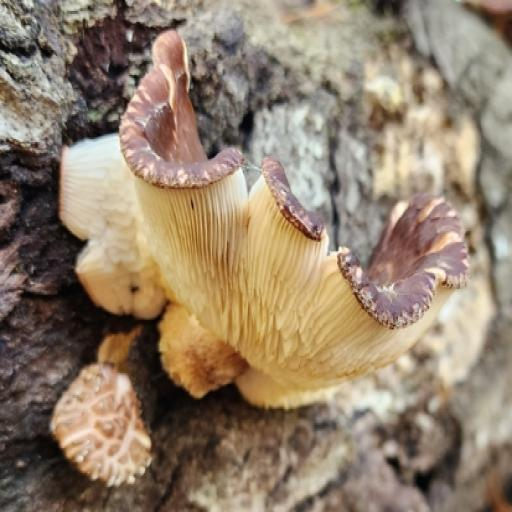Shiitake Mushroom: (45, 30, 482, 493)
